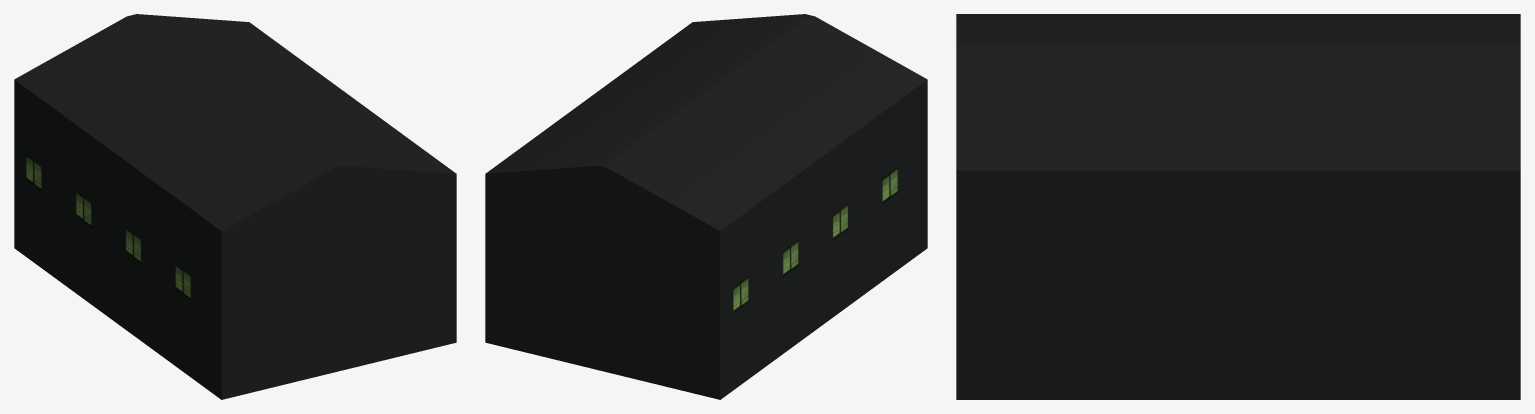
The model's file is AMB_SYAKO.glb.
3 renders of one model, left to right at view 1: azimuth 30°, elevation 25°; view 2: azimuth 150°, elevation 25°; view 3: azimuth 270°, elevation 25°, orthographic. The views are drawn at different scales.
Visible parts, largest first — view 1: BASE; view 2: BASE; view 3: BASE.
Part boxes in pixels (left/top/right/bottom): BASE: left=14, top=14, right=456, bottom=399; BASE: left=485, top=14, right=927, bottom=399; BASE: left=956, top=14, right=1520, bottom=399.
Bounding box in the file's own units: 68.35 × 56.67 × 104.
Materials: 2 (2 with a texture image).
